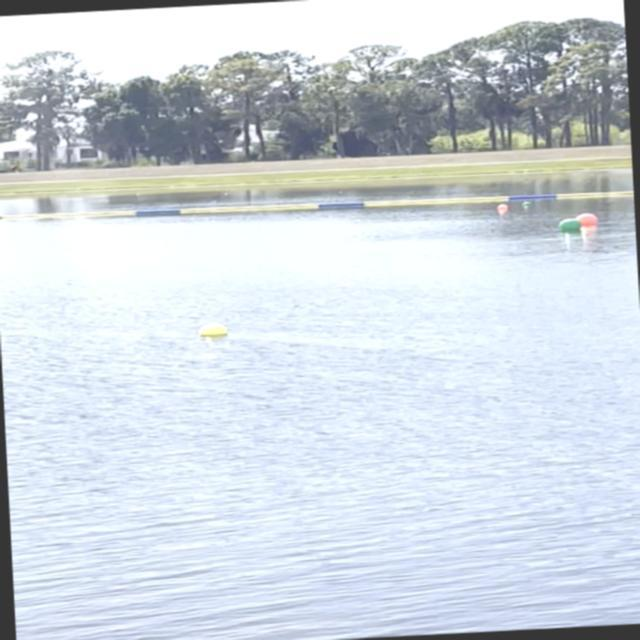buoy: (198, 320, 230, 338), (557, 218, 585, 232), (576, 212, 600, 225)
